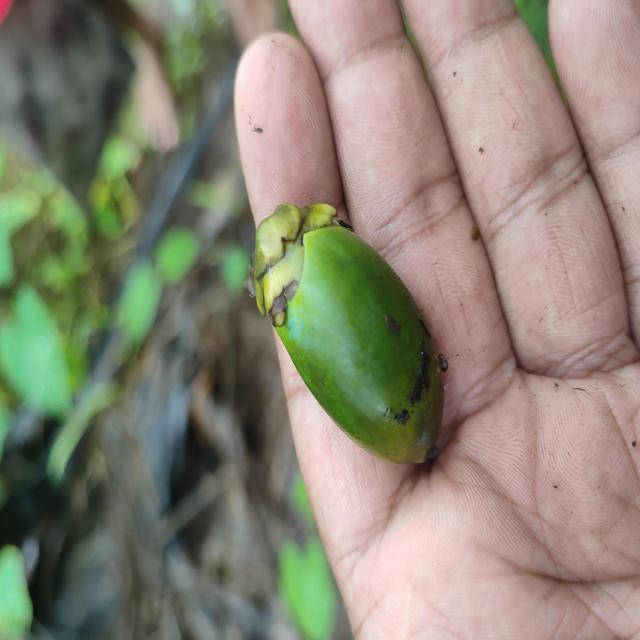damaged: (250, 205, 444, 468)
